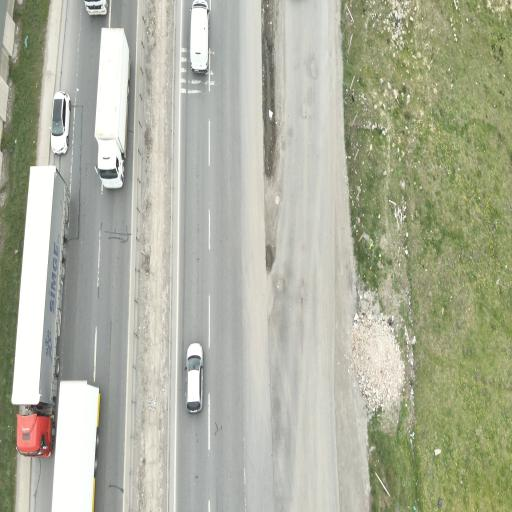car: (190, 0, 209, 73), (51, 92, 71, 154), (185, 343, 202, 412)
truck: (12, 166, 69, 457), (52, 381, 100, 511), (95, 28, 130, 188), (85, 0, 107, 15)
